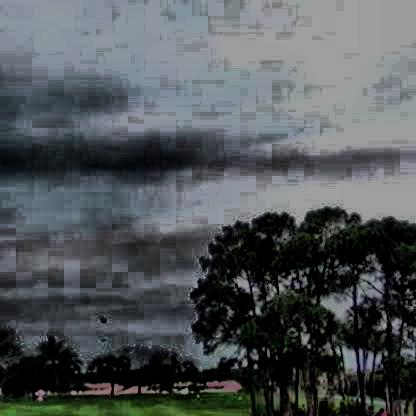golfball: (99, 315, 107, 323)
